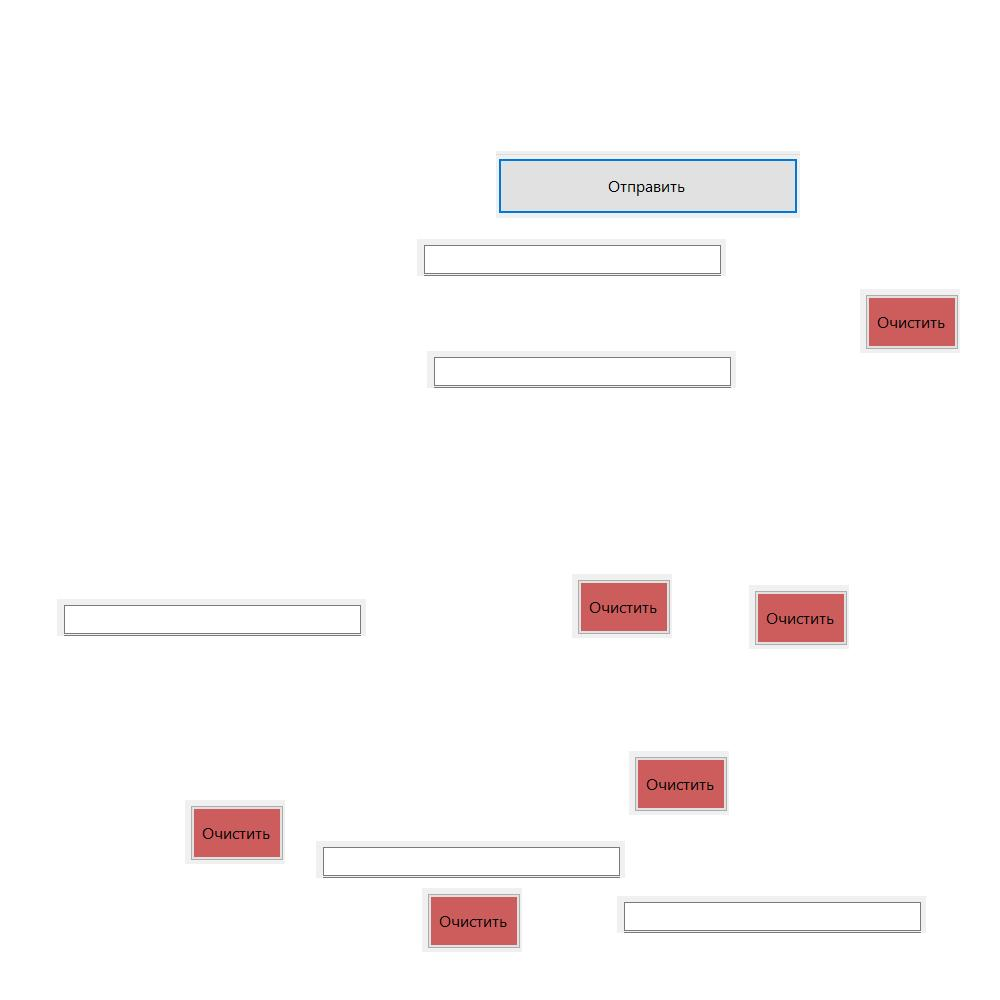Button: (496, 151, 800, 218), (572, 574, 672, 638), (749, 585, 849, 649), (860, 289, 960, 353), (422, 888, 522, 952), (185, 800, 285, 864), (629, 751, 729, 815)
EditText-: (617, 896, 926, 933), (417, 239, 726, 276), (427, 351, 736, 388), (57, 599, 366, 636), (316, 841, 625, 878)
